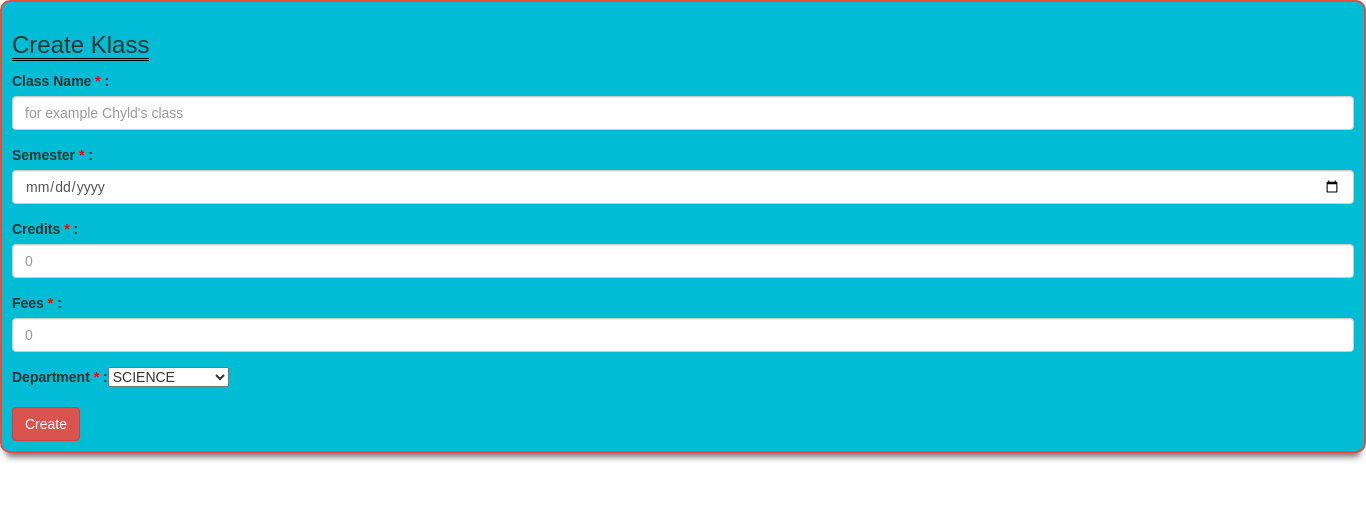
Test: List › should show error message when no name is passed
The image size is (1366, 519).
Click the button "Create" at (46, 424), box left=12, top=407, right=80, bottom=441
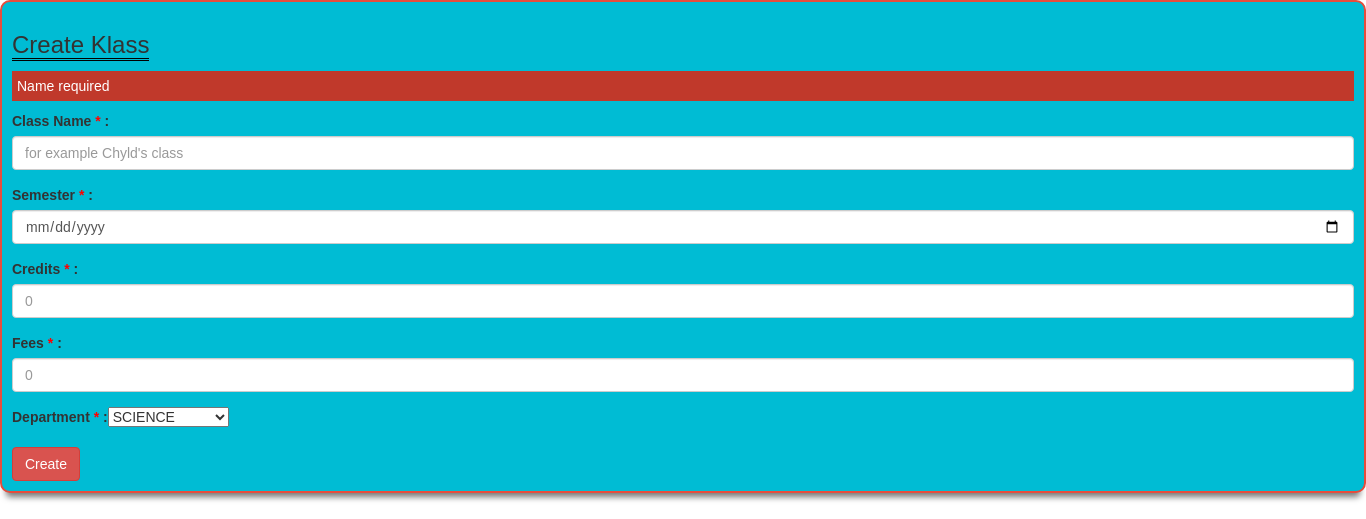
Now the text "Name required" is shown, box left=12, top=71, right=1354, bottom=101
